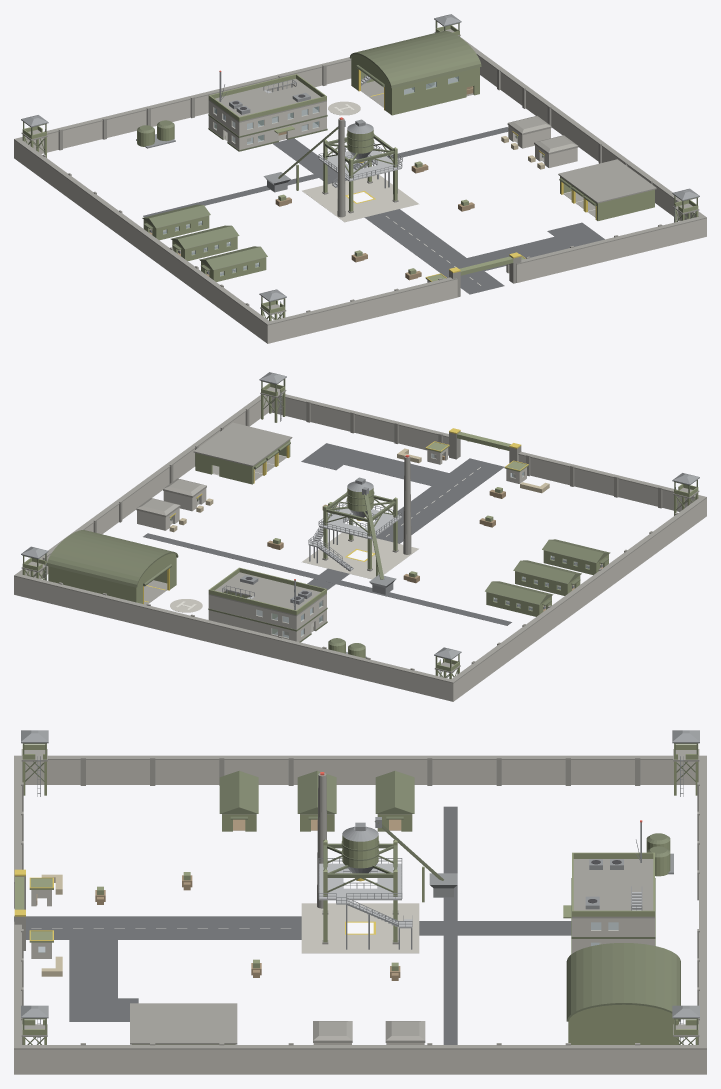
The model's file is military_base.fbx.
3 renders of one model, top to bottom at view 1: azimuth 30°, elevation 25°; view 2: azimuth 150°, elevation 25°; view 3: azimuth 270°, elevation 25°, orthographic. The views are drawn at different scales.
Parts seen in each view (by area): view 1: Wall_Concrete, Ground_Asphalt, Wall_DarkConcrete, Hangar_DarkOlive, Hangar_Olive, HQ_Concrete, Ground_Concrete, Garage_DarkConcrete, Barracks_DarkOlive, Barracks_Olive, HQ_DarkConcrete, Core_Metal (+15 smaller); view 2: Wall_Concrete, Ground_Asphalt, Wall_DarkConcrete, Hangar_DarkOlive, HQ_Concrete, Garage_DarkConcrete, Barracks_DarkOlive, Ground_Concrete, Barracks_Olive, Hangar_Olive, HQ_DarkConcrete, Core_Metal (+12 smaller); view 3: Wall_Concrete, Ground_Asphalt, Wall_DarkConcrete, Hangar_DarkOlive, Ground_Concrete, Barracks_DarkOlive, Garage_DarkConcrete, HQ_DarkConcrete, Hangar_Olive, Core_Metal, Core_Steel, HQ_Concrete (+13 smaller).
Part boxes in pixels (left/top/right/bottom): Wall_Concrete: left=14, top=55, right=706, bottom=343; Ground_Asphalt: left=143, top=127, right=604, bottom=294; Wall_DarkConcrete: left=14, top=37, right=706, bottom=325; Hangar_DarkOlive: left=349, top=31, right=481, bottom=89; Hangar_Olive: left=351, top=54, right=479, bottom=115; HQ_Concrete: left=208, top=85, right=326, bottom=150; Ground_Concrete: left=302, top=101, right=418, bottom=222; Garage_DarkConcrete: left=558, top=159, right=656, bottom=217; Barracks_DarkOlive: left=142, top=204, right=267, bottom=270; Barracks_Olive: left=143, top=215, right=266, bottom=281; HQ_DarkConcrete: left=208, top=79, right=326, bottom=143; Core_Metal: left=263, top=119, right=402, bottom=193; Wall_Concrete: left=14, top=396, right=706, bottom=701; Ground_Asphalt: left=143, top=443, right=511, bottom=625; Wall_DarkConcrete: left=14, top=394, right=706, bottom=683; Hangar_DarkOlive: left=46, top=530, right=178, bottom=587; HQ_Concrete: left=208, top=594, right=326, bottom=641; Garage_DarkConcrete: left=193, top=422, right=292, bottom=480; Barracks_DarkOlive: left=485, top=539, right=610, bottom=605; Ground_Concrete: left=170, top=532, right=418, bottom=612; Barracks_Olive: left=486, top=550, right=608, bottom=616; Hangar_Olive: left=48, top=553, right=176, bottom=603; HQ_DarkConcrete: left=208, top=572, right=326, bottom=637; Core_Metal: left=308, top=477, right=402, bottom=594; Wall_Concrete: left=14, top=760, right=706, bottom=1074; Ground_Asphalt: left=14, top=806, right=571, bottom=1044; Wall_DarkConcrete: left=14, top=755, right=706, bottom=1049; Hangar_DarkOlive: left=566, top=943, right=680, bottom=1021; Ground_Concrete: left=301, top=903, right=419, bottom=953; Barracks_DarkOlive: left=219, top=770, right=414, bottom=819; Garage_DarkConcrete: left=130, top=1003, right=237, bottom=1044; HQ_DarkConcrete: left=572, top=859, right=654, bottom=945; Hangar_Olive: left=568, top=1004, right=679, bottom=1044; Core_Metal: left=318, top=817, right=457, bottom=949; Core_Steel: left=319, top=863, right=412, bottom=928; HQ_Concrete: left=572, top=918, right=654, bottom=953.
Size of the model in its own units: 40000 by 8500 by 40000.
